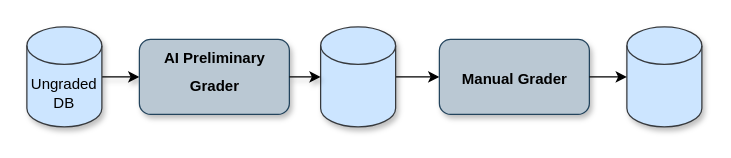
Image size: 731x158. Some labels were removed from this diagram. Each missing label, with the centre of its shape:
Grade DB: [665,78]
Preliminary Grade DB: [358,78]
